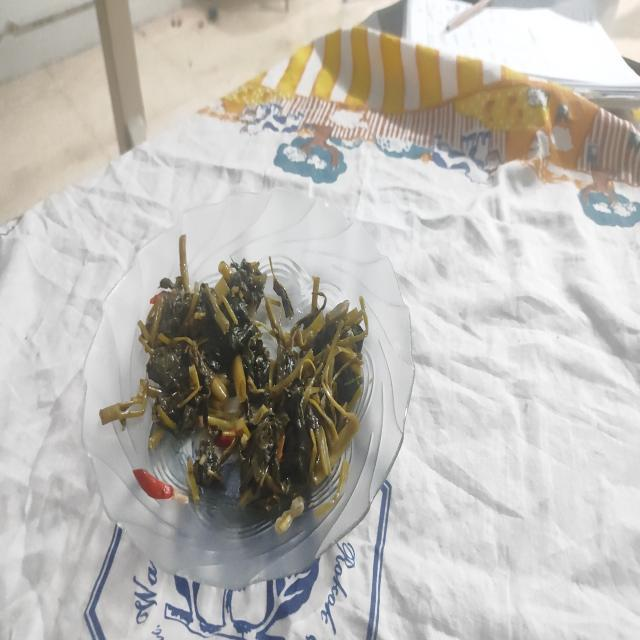tumis_kangkung: (138, 258, 368, 532)
